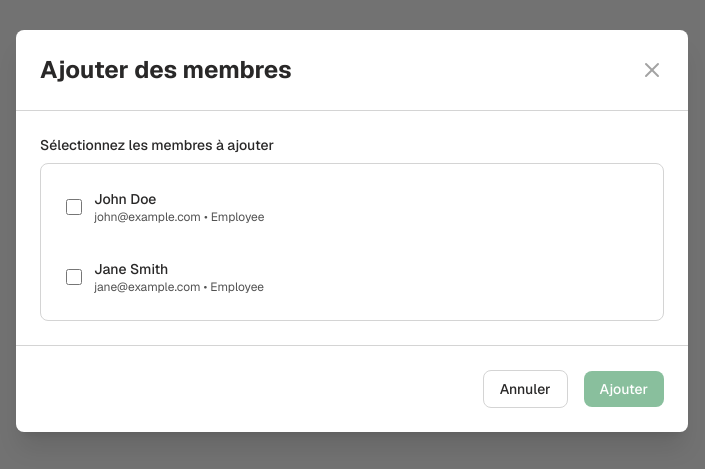
Test case: AddMembersModal › should display selected count
The image size is (705, 469).
Expected: the text "John Doe" is shown, [94,190,156,208]
Click the checkbox labelled "John Doe john@example.com • Employee": (74, 207) [66,199,82,215]
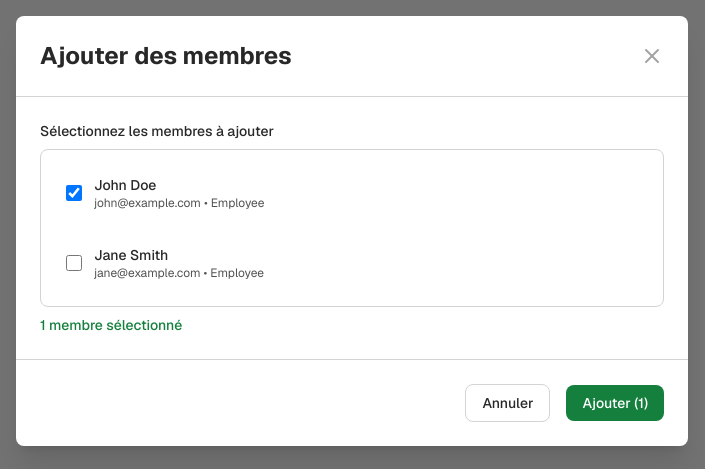
Expected: the text "1 membre sélectionné" is shown, [40,316,182,334]
Click the checkbox labelled "Jane Smith jane@example.com • Employee": (74, 263) [66,255,82,271]
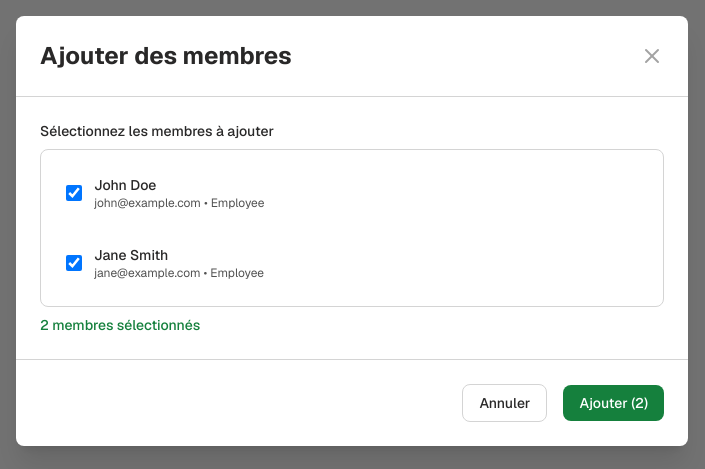
Expected: the text "2 membres sélectionnés" is shown, [40,316,200,334]
